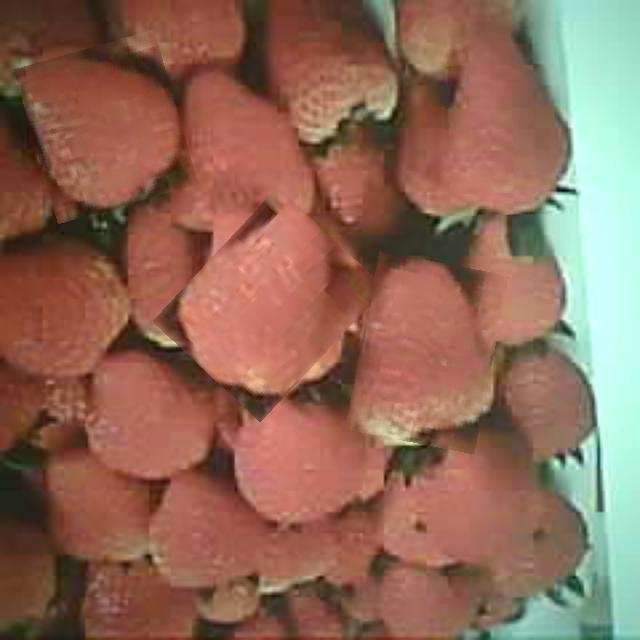strawberry: (174, 199, 364, 409), (23, 38, 188, 216), (353, 256, 501, 448), (444, 28, 568, 215)
